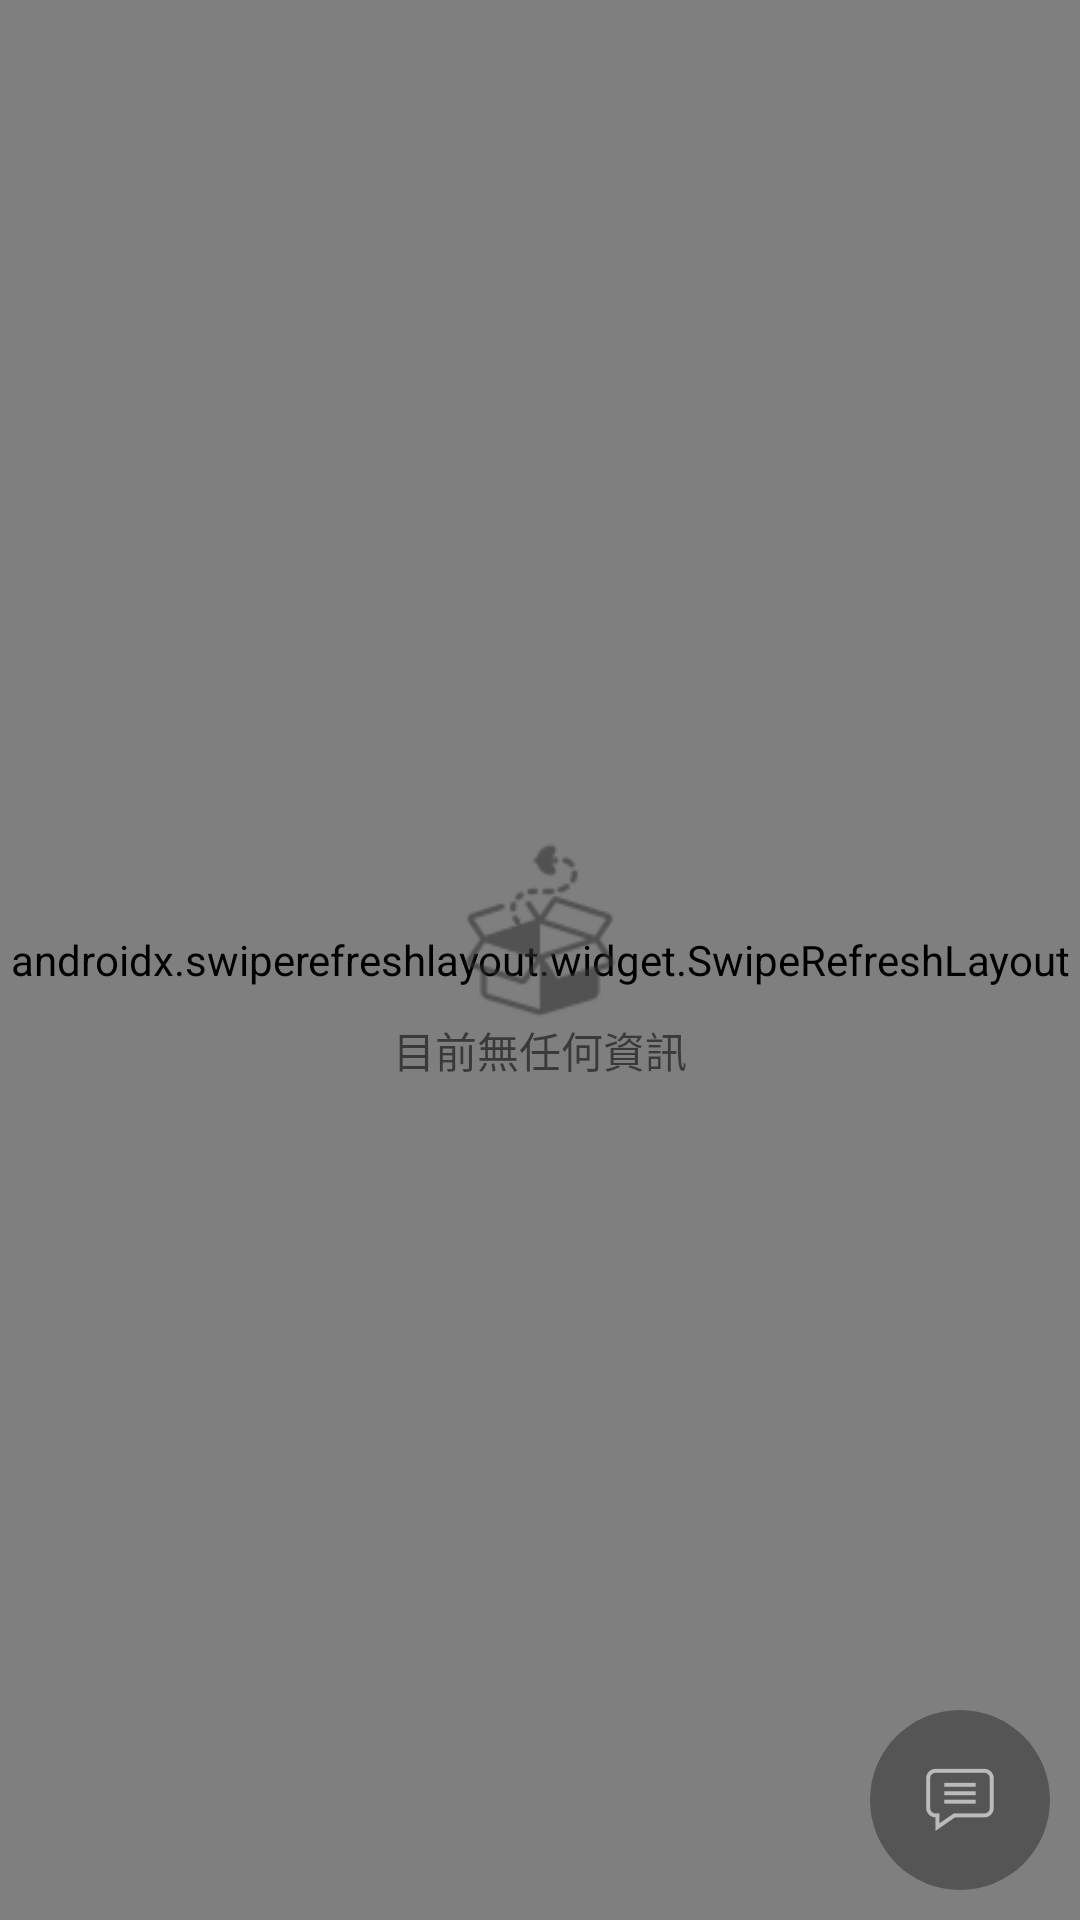

Screen size 1080w x 1920h. Icon name, then its center in pixels as (x,y):
comment: (960,1800)
